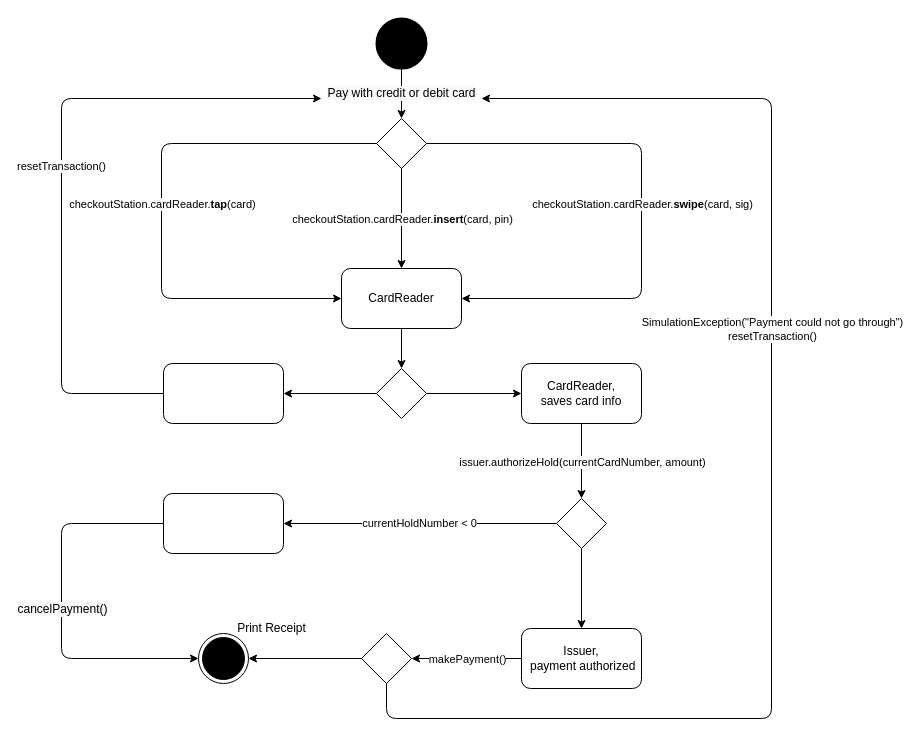
The diagram is 920 pixels wide and 744 high, and some of its shapes have lost their labels. Here are the shapes that lost their labels. From the top down, the centre of each, then its label:
[223,393]: CardReader, SimulationException card data not read
[223,523]: Issuer, SimulationException payment unauthorized
